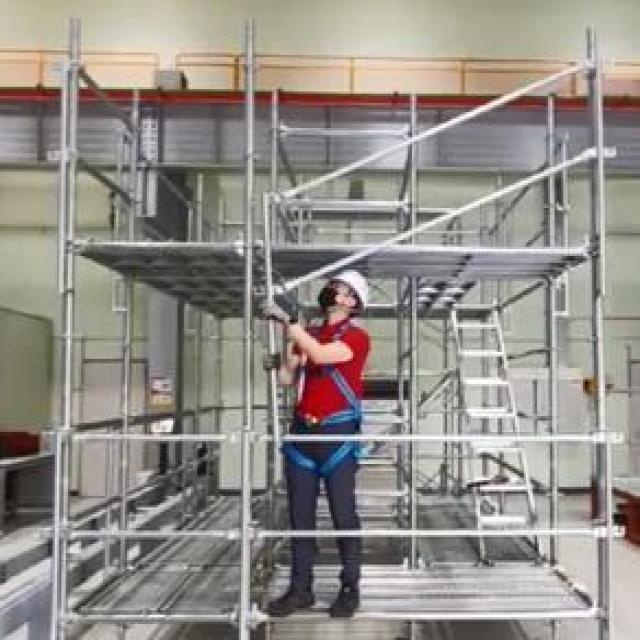Arnes_seguridad: (284, 324, 361, 475)
